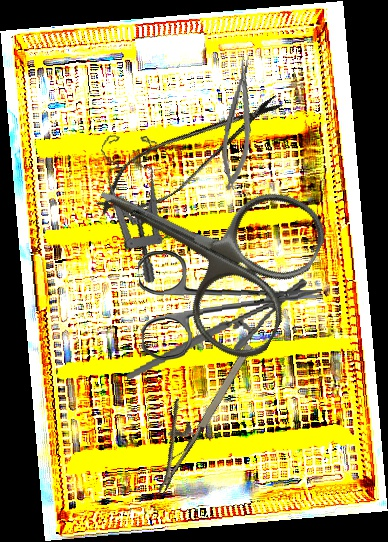Iris Scissors: (61, 116, 337, 371), (137, 242, 326, 362)
Micro Scissor: (86, 76, 292, 232)
Needle Holder: (127, 327, 258, 497), (115, 277, 318, 380), (215, 54, 263, 193)
Speculum: (74, 127, 186, 284)
